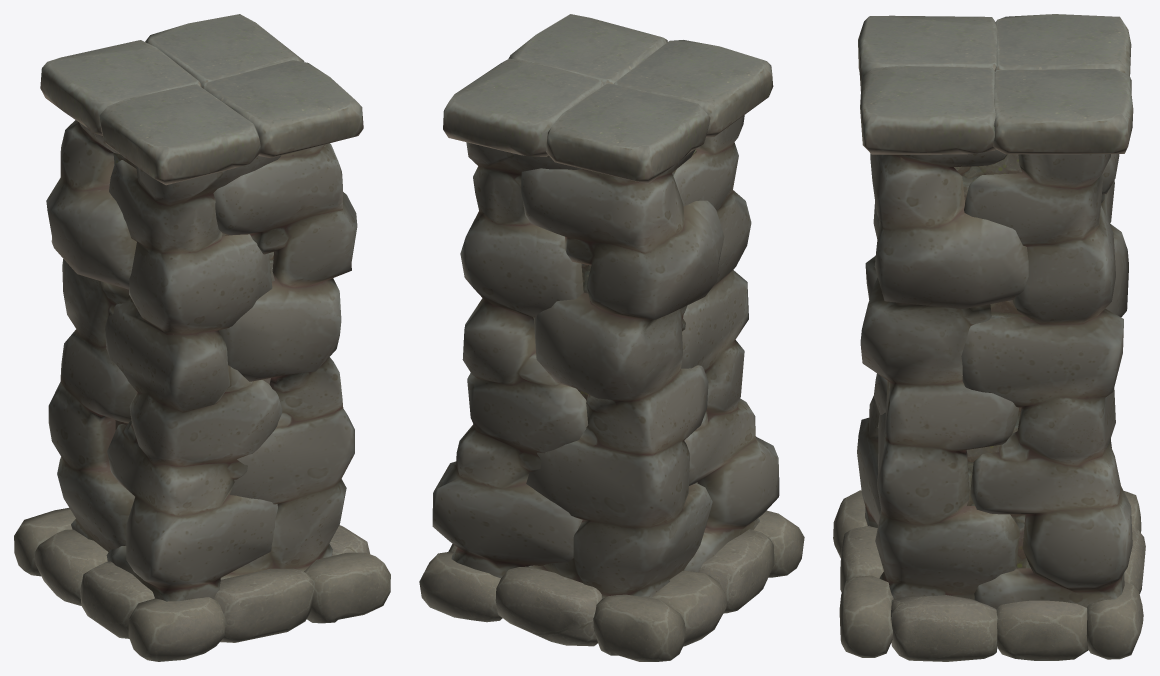
File: SM_FW01_Ruins_Int_Pillar_C_1x3_01.fbx
3 renders of one model, left to right at view 1: azimuth 30°, elevation 25°; view 2: azimuth 150°, elevation 25°; view 3: azimuth 270°, elevation 25°, orthographic. The views are drawn at different scales.
Visible parts, largest first — view 1: SM_FW01_Ruins_Int_Pillar_C_1x3_01_LOD0; view 2: SM_FW01_Ruins_Int_Pillar_C_1x3_01_LOD0; view 3: SM_FW01_Ruins_Int_Pillar_C_1x3_01_LOD0, SM_FW01_Ruins_Int_Pillar_C_1x3_01.
Boxes of the visible parts, bbox=[...] form: SM_FW01_Ruins_Int_Pillar_C_1x3_01_LOD0: bbox=[14, 14, 390, 661]; SM_FW01_Ruins_Int_Pillar_C_1x3_01_LOD0: bbox=[419, 14, 804, 661]; SM_FW01_Ruins_Int_Pillar_C_1x3_01_LOD0: bbox=[833, 14, 1145, 661]; SM_FW01_Ruins_Int_Pillar_C_1x3_01: bbox=[900, 154, 1030, 568].
Size of what is drawn, in the model's own units: 1.69 by 3.17 by 1.67.
